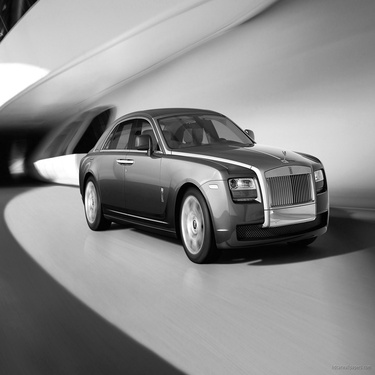car: (63, 96, 335, 267)
